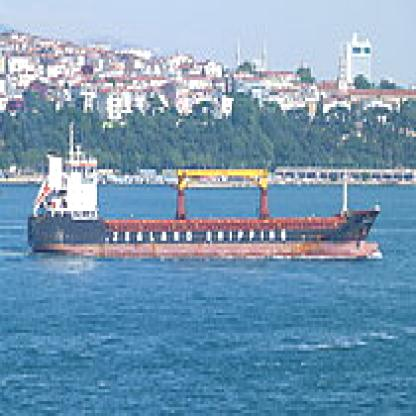Tanker: (30, 134, 384, 270)
